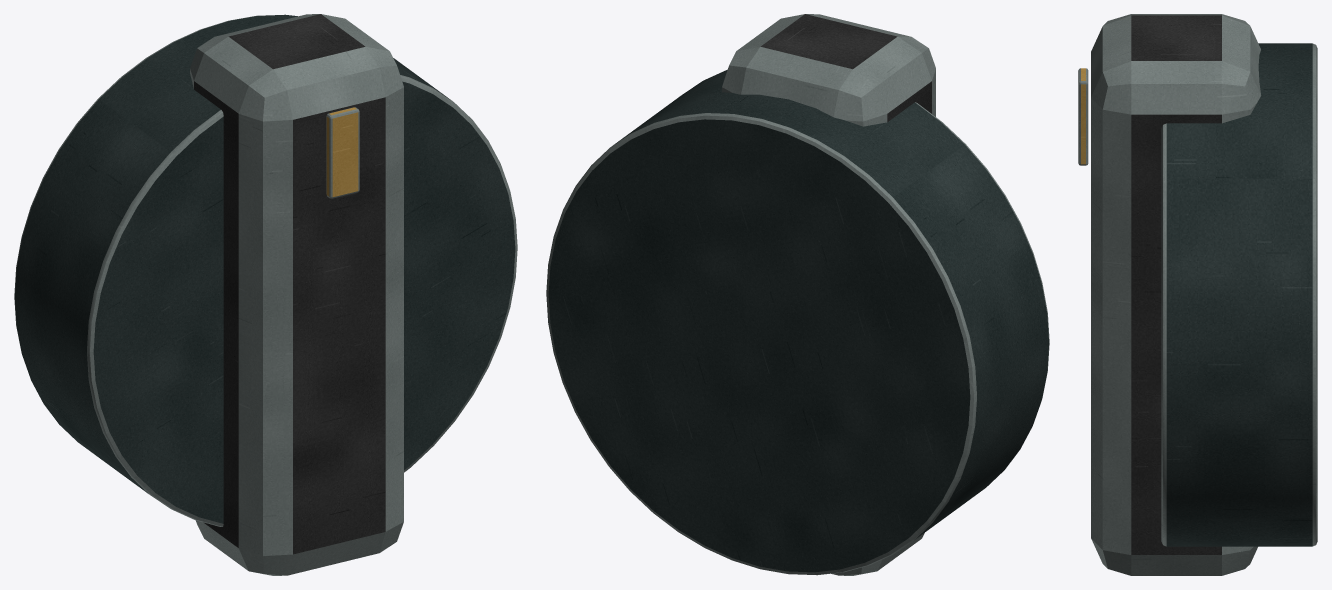
The model's file is BALANCE_Knob.fbx.
The picture shows the model from 3 angles, left to right: view 1: azimuth 30°, elevation 25°; view 2: azimuth 150°, elevation 25°; view 3: azimuth 270°, elevation 25°; orthographic projection.
Parts seen in each view (by area): view 1: BALANCE_Knob__Visual; view 2: BALANCE_Knob__Visual; view 3: BALANCE_Knob__Visual.
Part boxes in pixels (bbox=[...]): BALANCE_Knob__Visual: bbox=[14, 14, 517, 575]; BALANCE_Knob__Visual: bbox=[546, 14, 1049, 575]; BALANCE_Knob__Visual: bbox=[1078, 14, 1317, 575].
Bounding box in the file's own units: 0.2 × 0.225 × 0.095.
